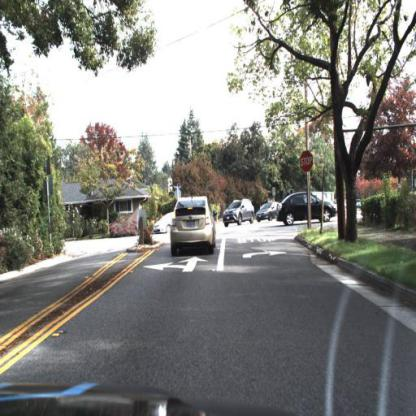car: (168, 196, 218, 263), (272, 188, 337, 226), (223, 199, 254, 226), (254, 202, 283, 225), (156, 214, 174, 232)
